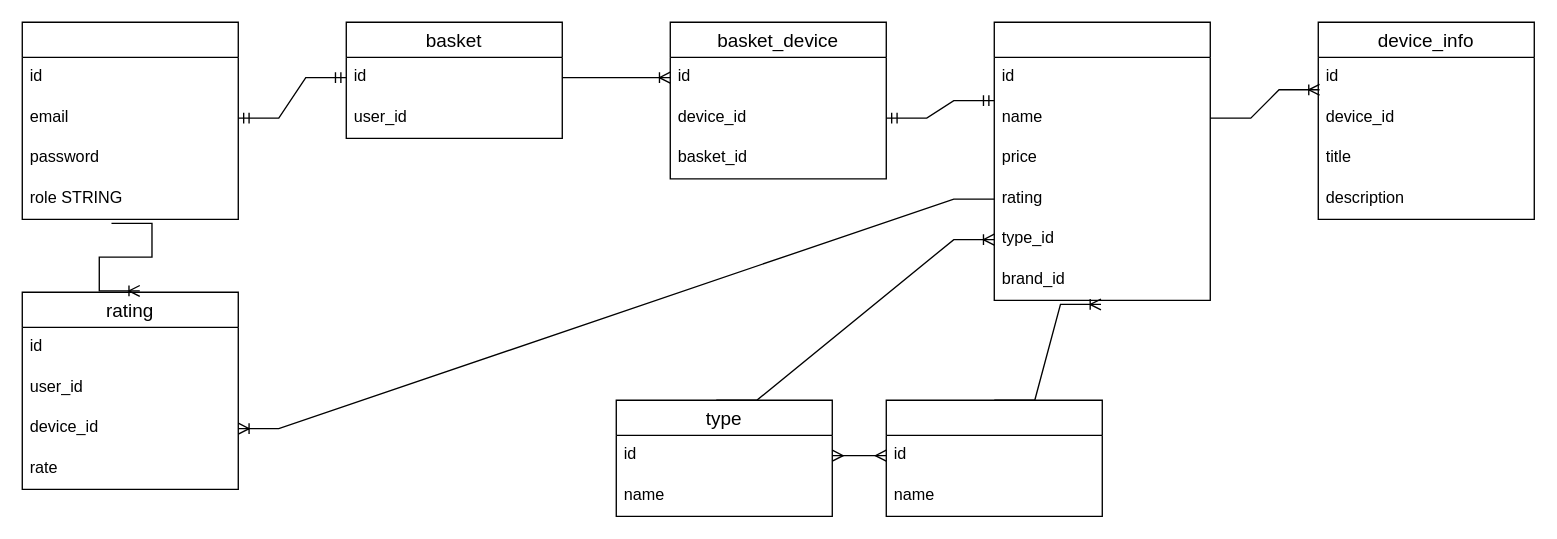
Some shapes in this 1557 by 539 pixel diagram are drawn without their labels. The shapes that lost their labels are listed below. From the top down, each one's box as (x1, y1, x2, y2) in pixels, then its label:
(21, 21, 238, 219): user
(993, 21, 1210, 300): device
(885, 399, 1102, 516): brand
